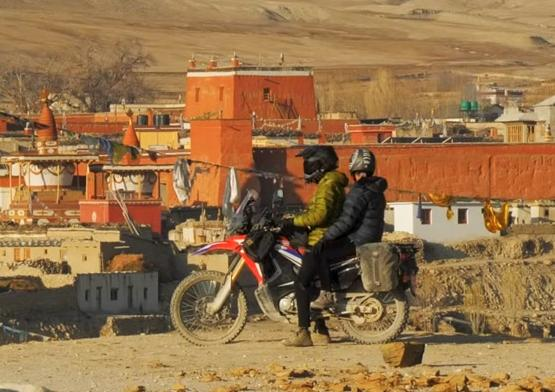bike: (170, 188, 408, 347)
